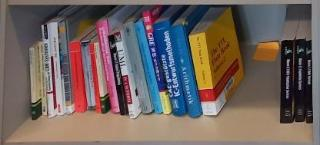book-spine: (153, 20, 187, 118), (170, 24, 202, 119), (122, 21, 154, 115), (142, 12, 169, 116), (134, 22, 164, 114), (188, 32, 217, 117), (96, 21, 120, 115), (106, 34, 129, 116), (114, 31, 135, 120), (59, 22, 72, 116), (49, 22, 62, 116), (41, 24, 54, 118), (280, 40, 293, 124), (70, 41, 85, 113), (81, 40, 96, 111), (89, 43, 102, 115), (94, 42, 106, 115), (304, 40, 314, 124), (295, 40, 305, 123), (38, 41, 47, 116), (30, 47, 36, 121)
